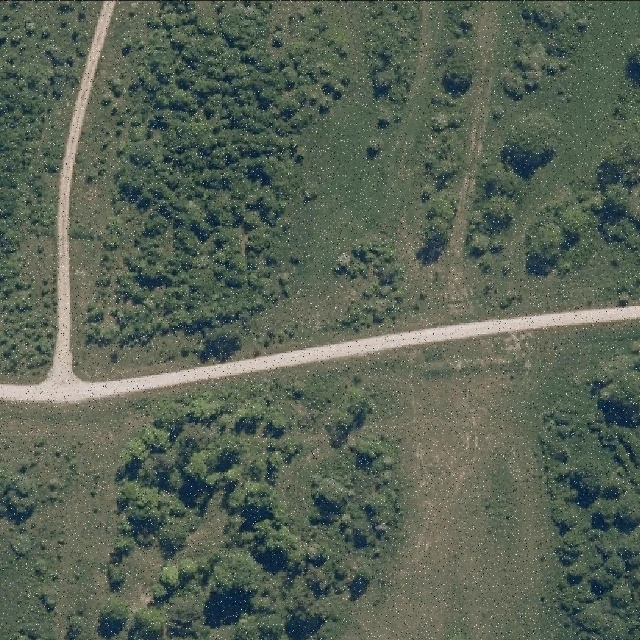vegetation: (88, 0, 350, 355), (100, 376, 400, 640), (468, 1, 596, 251), (542, 348, 640, 639), (526, 38, 640, 276), (423, 0, 483, 251), (367, 0, 422, 153), (334, 233, 401, 329)
